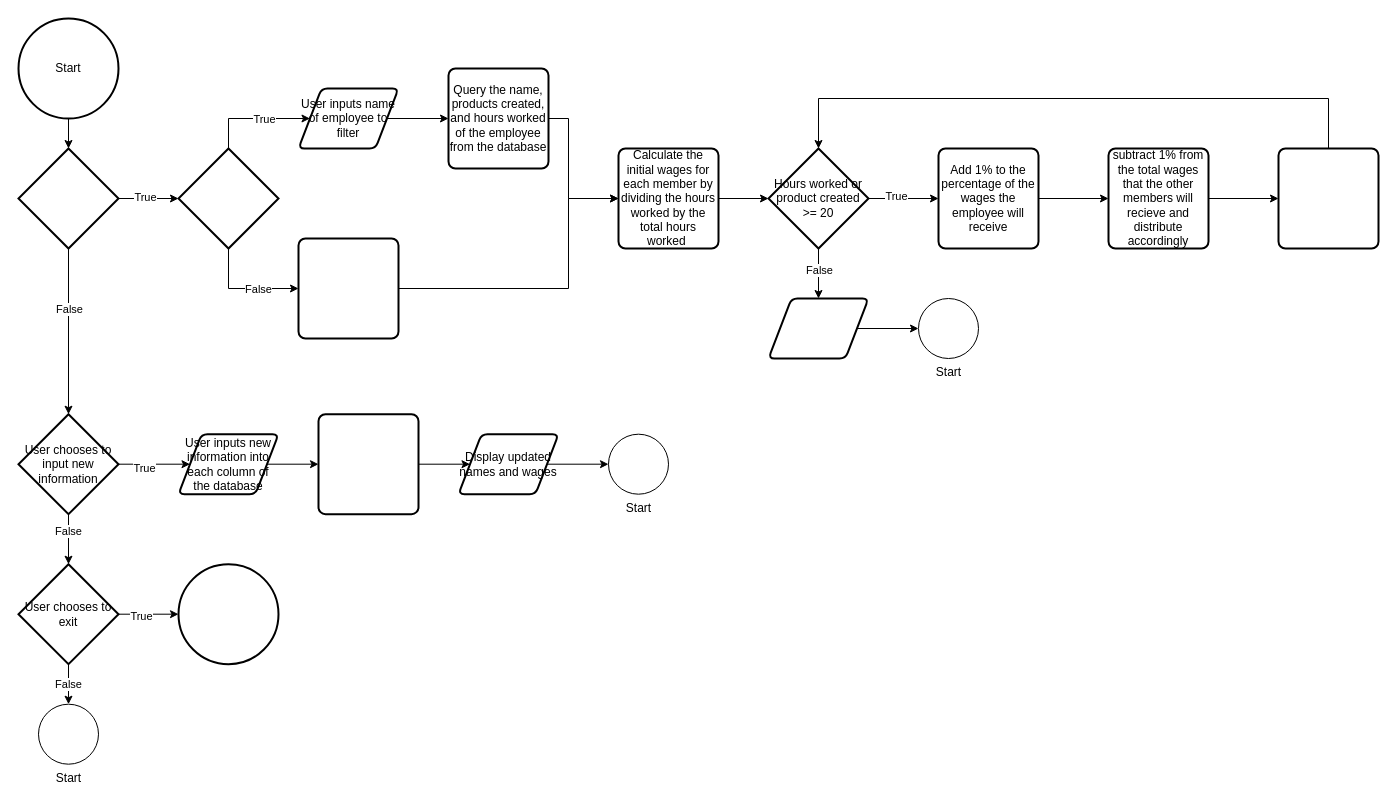
This 1396x802 diagram has some shape labels left out. The shapes that lost their labels are listed below. From the top down, each one's centre as x and y in pixels, then its label:
At pixel 68 198: "User chooses to display wages".
At pixel 228 198: "User chooses to filter employee wages".
At pixel 1328 198: "subtract 20 from the hours worked or product".
At pixel 348 288: "Query all names and corresponding products and hours from the database".
At pixel 818 328: "Display names and wages".
At pixel 368 464: "Update database with new row".
At pixel 228 614: "End".
